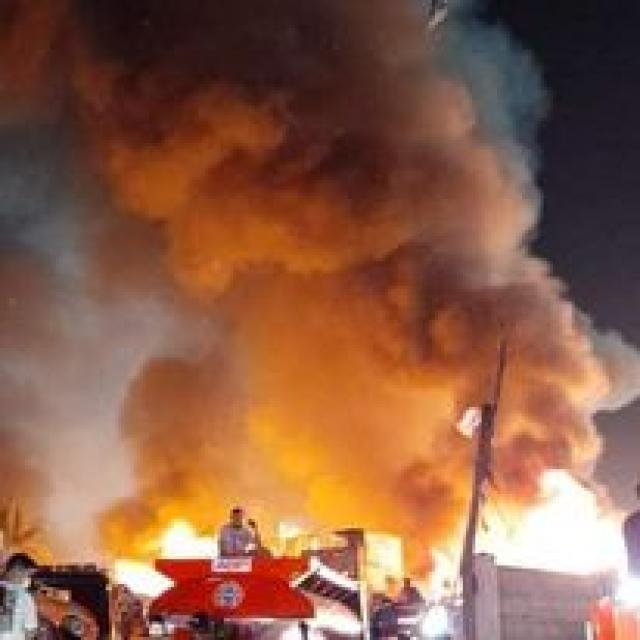Fire: (484, 478, 640, 574), (342, 515, 472, 603), (109, 509, 219, 592)
Smoke: (0, 0, 640, 463)
